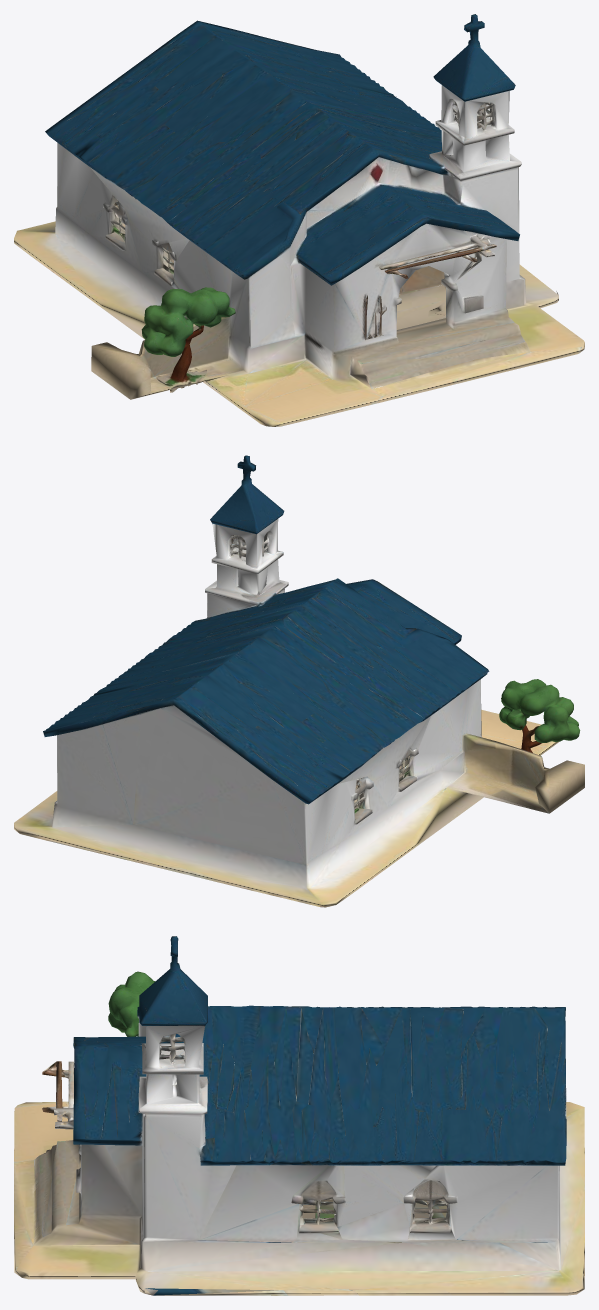
File: church.glb
The picture shows the model from 3 angles, top to bottom: view 1: azimuth 30°, elevation 25°; view 2: azimuth 150°, elevation 25°; view 3: azimuth 270°, elevation 25°; orthographic projection. The views are drawn at different scales.
Bounding box in the file's own units: 1.81 × 1.24 × 1.9.
Materials: 1 (1 with a texture image).
